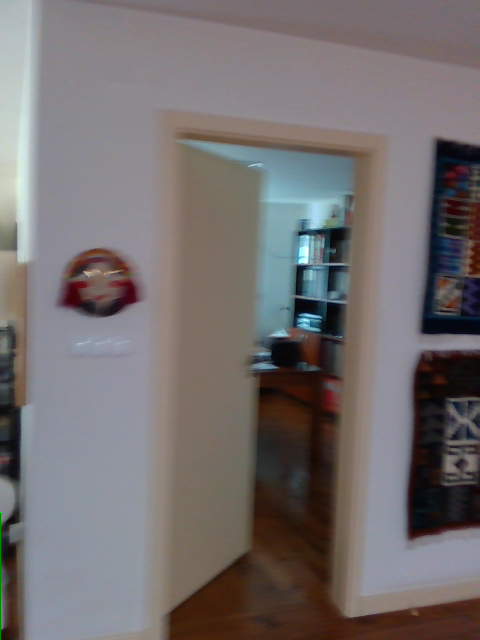semi: (148, 108, 388, 624)
